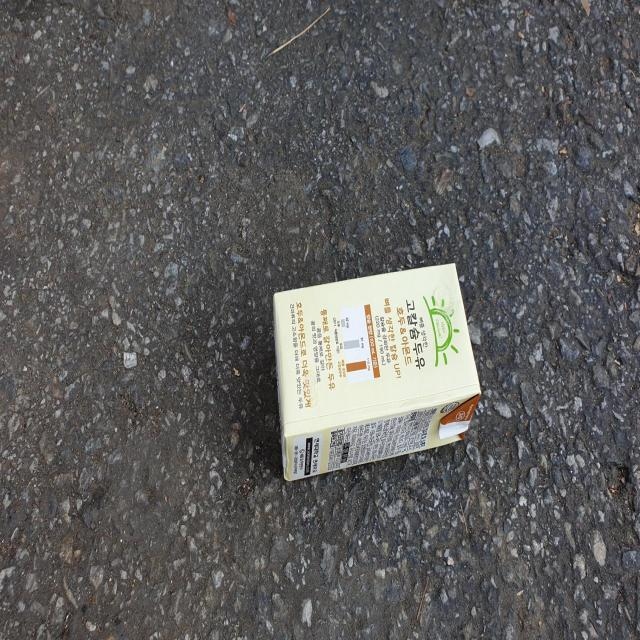paperpack: (273, 263, 481, 480)
